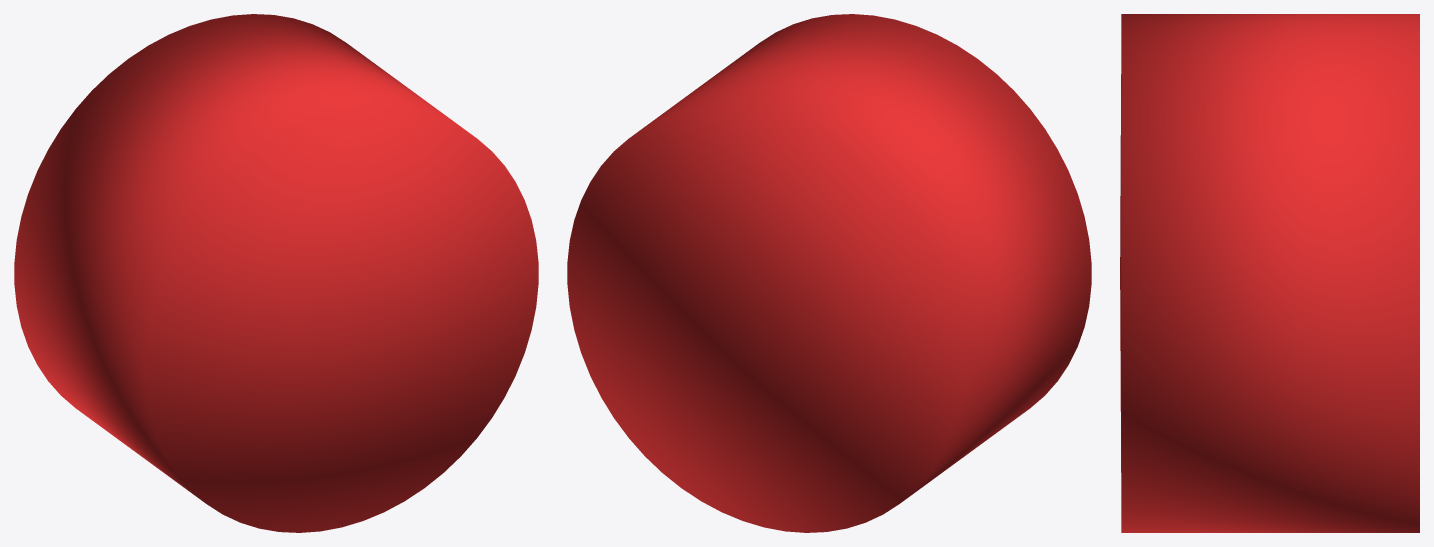
3 views of the same model, side by side, from view 1: azimuth 30°, elevation 25°; view 2: azimuth 150°, elevation 25°; view 3: azimuth 270°, elevation 25° (orthographic). The views are drawn at different scales.
Visible parts, largest first — view 1: Part1; view 2: Part1; view 3: Part1.
Part boxes in pixels (bbox=[...]): Part1: bbox=[14, 14, 538, 532]; Part1: bbox=[567, 14, 1091, 532]; Part1: bbox=[1120, 14, 1419, 532].
Size of the model in its own units: 200 by 200 by 116.
